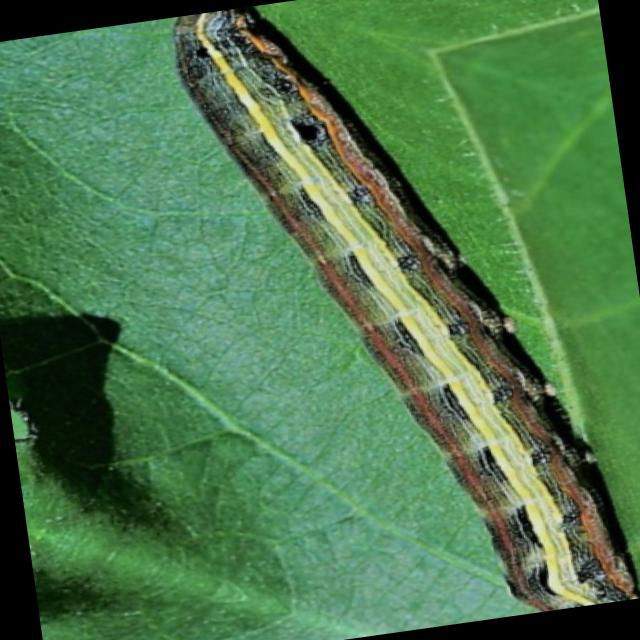Armyworm: (151, 1, 640, 640)
